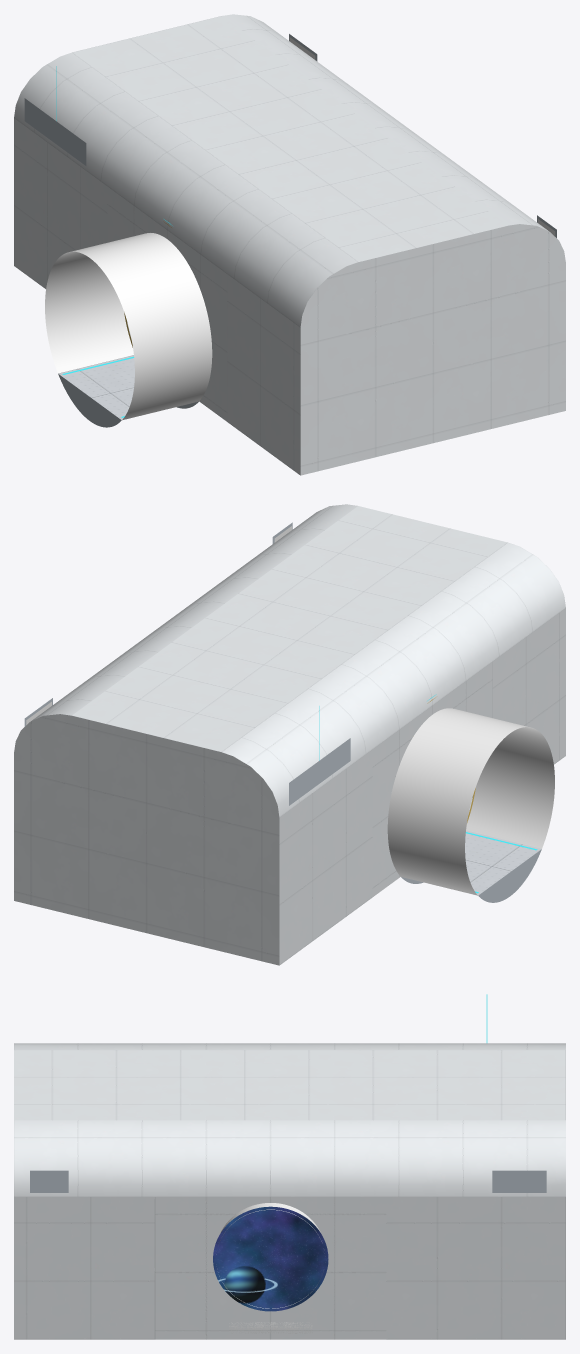
File: starpod_interior_v2.glb
3 renders of one model, top to bottom at view 1: azimuth 30°, elevation 25°; view 2: azimuth 150°, elevation 25°; view 3: azimuth 270°, elevation 25°, orthographic. The views are drawn at different scales.
Bounding box in the file's own units: 6.2 × 4.2 × 8.6.
Materials: 12 (12 with a texture image).
